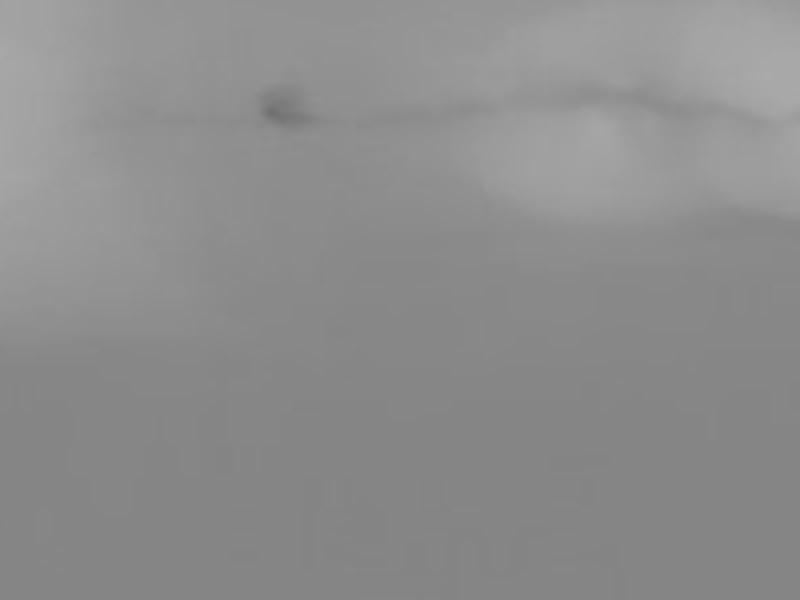defect: (260, 88, 313, 130)
